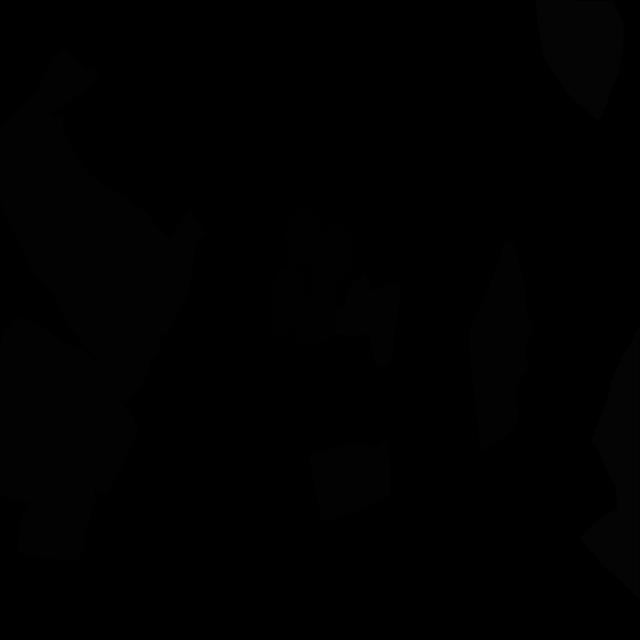cardboard: (0, 48, 206, 406), (0, 318, 139, 560), (469, 278, 519, 452), (309, 436, 391, 521), (335, 271, 401, 367), (492, 241, 533, 387)
rigid_plastic: (284, 206, 352, 294), (270, 265, 337, 346)
soft_plastic: (580, 324, 640, 599), (535, 0, 624, 121)
